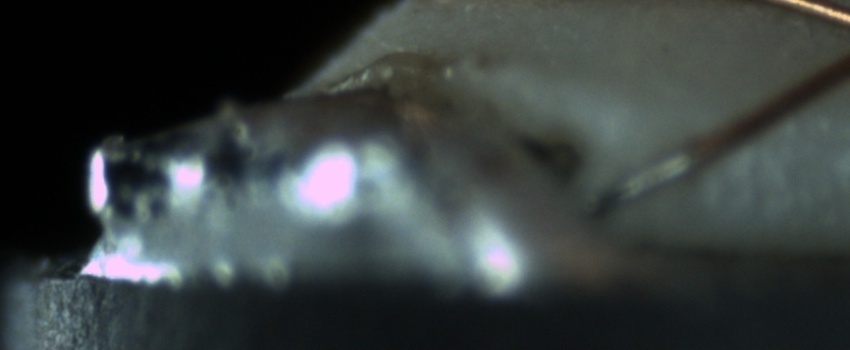TS: (588, 147, 696, 216)
